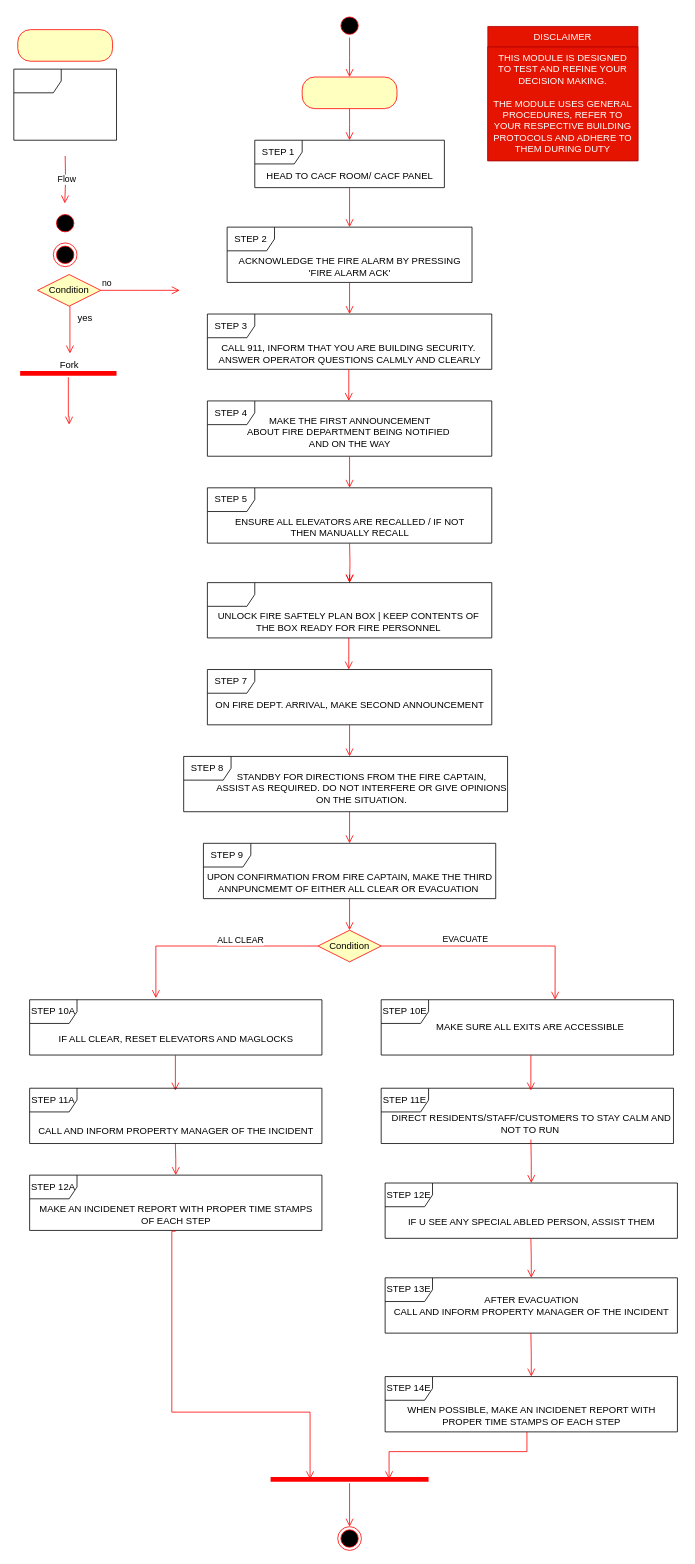
Image size: 695x1564. Some labels were removed from this diagram. Here are the shapes that lost their labels. From the top down, the centre of each, then its label:
At [65,45]: "Situation Context".
At [65,104]: "STEPS".
At [349,92]: "Active Fire Alarm".
At [65,223]: "Start Point".
At [65,254]: "End Point".
At [349,610]: "STEP 6".
